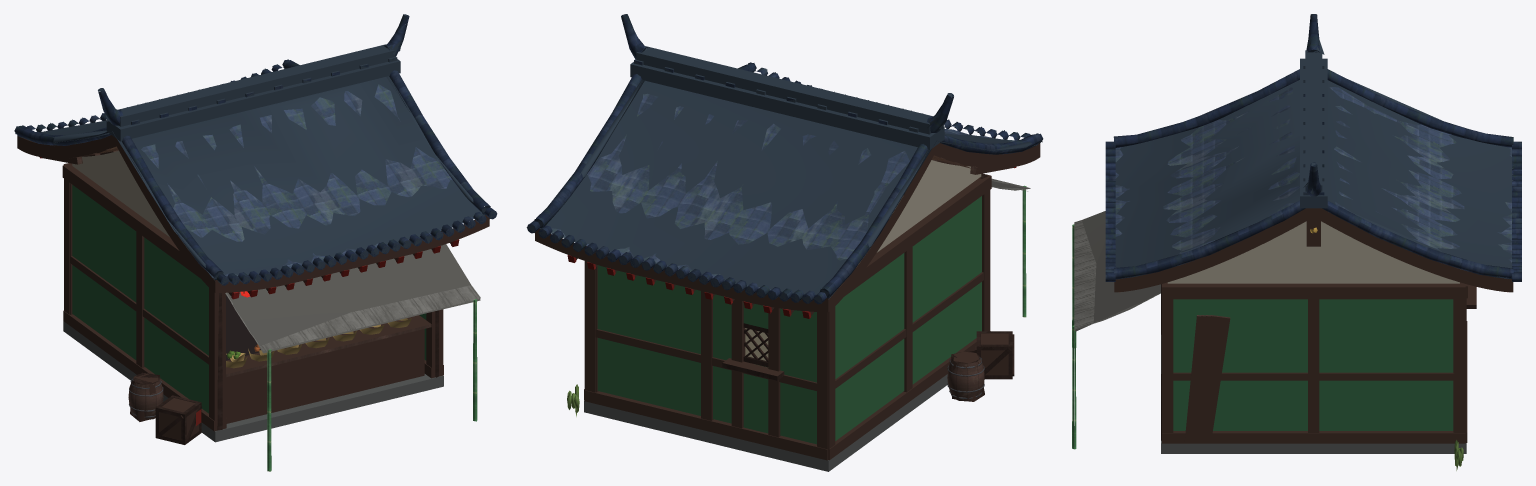
The model's file is prop_shop_small_b.gltf.
3 views of the same model, side by side, from view 1: azimuth 30°, elevation 25°; view 2: azimuth 150°, elevation 25°; view 3: azimuth 270°, elevation 25° (orthographic). The views are drawn at different scales.
Parts seen in each view (by area): view 1: Far, Near; view 2: Far, Near; view 3: Far, Near.
Part boxes in pixels (left/top/right/bottom): Far: left=15, top=14, right=495, bottom=442; Near: left=14, top=14, right=496, bottom=471; Far: left=526, top=14, right=1042, bottom=471; Near: left=527, top=14, right=1043, bottom=416; Far: left=1075, top=14, right=1513, bottom=453; Near: left=1072, top=14, right=1521, bottom=470.
Bounding box in the file's own units: 5.44 × 5.34 × 6.77.
26 materials, 16 textured.
